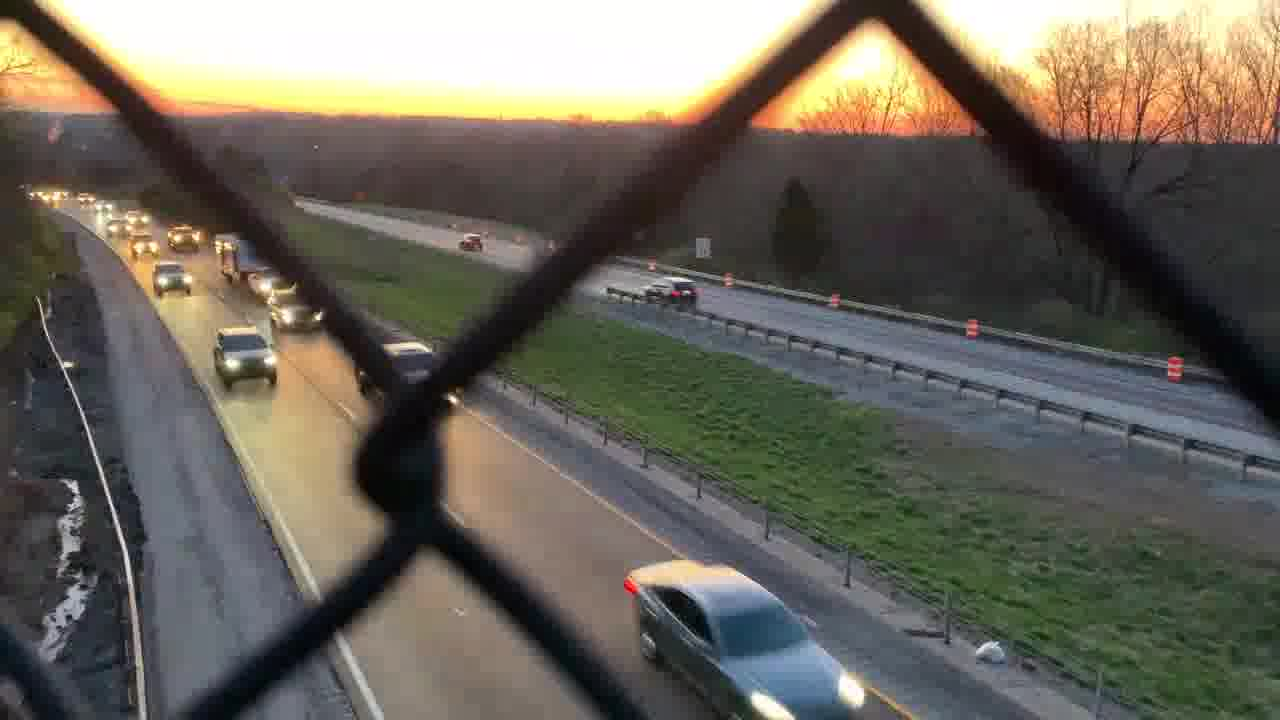largeCar: (210, 325, 278, 388), (644, 278, 702, 303)
smallCar: (626, 557, 870, 720)
